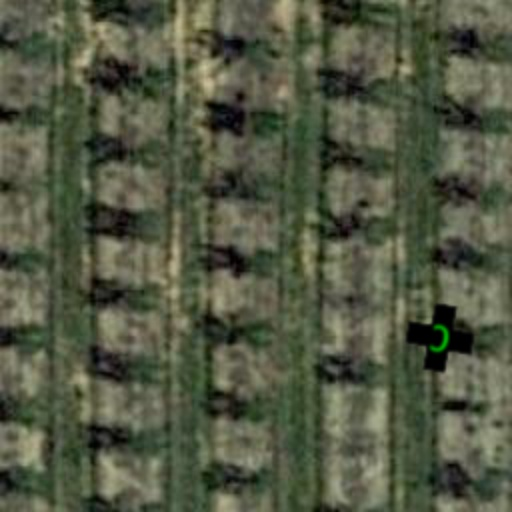cross: (400, 298, 480, 378)
